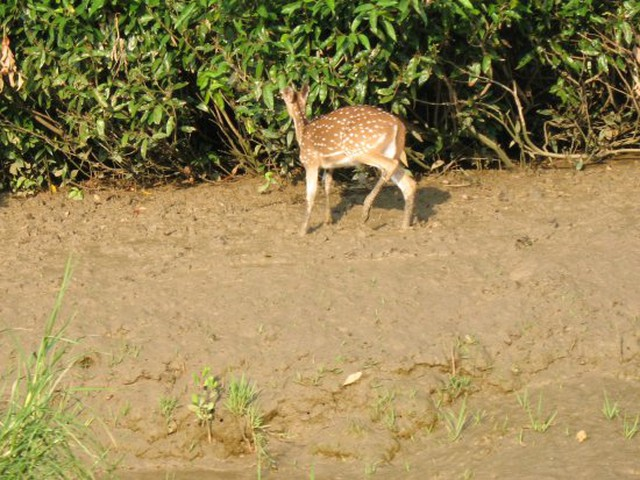deer: (275, 75, 427, 239)
